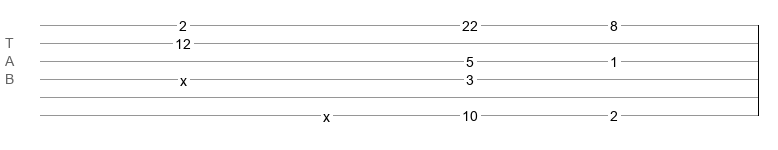1: (610, 54, 618, 64)
10: (462, 108, 478, 118)
12: (175, 36, 191, 46)
2: (179, 18, 187, 28), (610, 108, 618, 118)
22: (462, 18, 478, 28)
3: (466, 72, 474, 82)
5: (466, 54, 474, 64)
8: (610, 18, 618, 28)
x: (180, 73, 187, 81), (323, 109, 330, 117)
